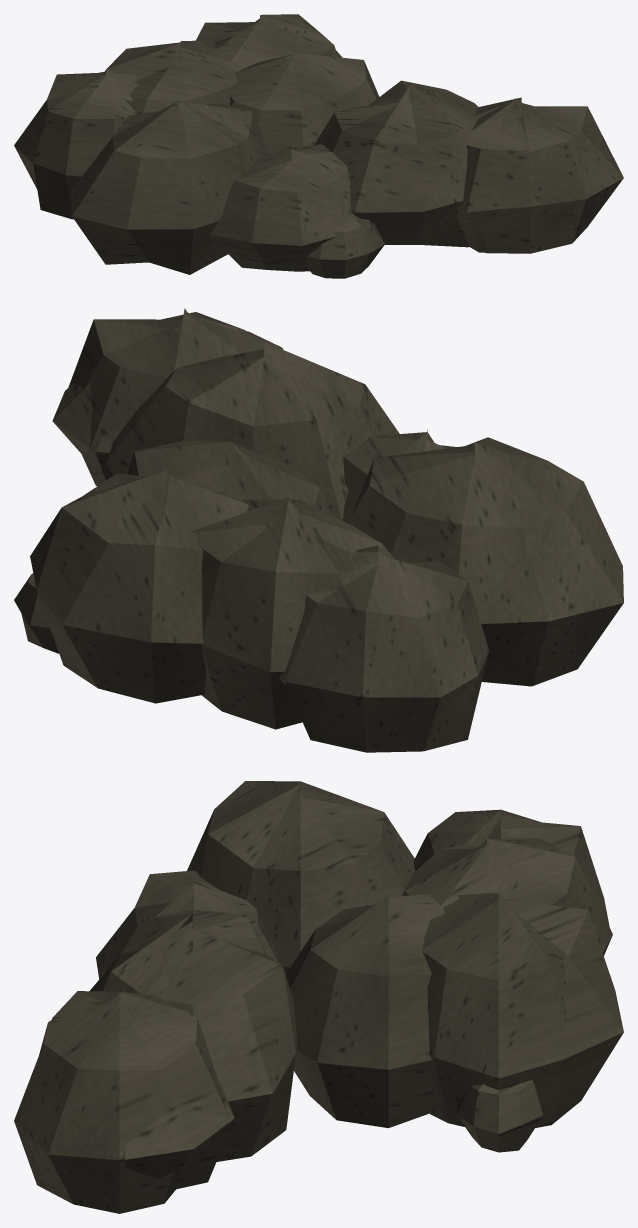
Rendered from PROP-8567FBD06306_lod1.glb.
3 views of the same model, one above another, from view 1: azimuth 30°, elevation 25°; view 2: azimuth 150°, elevation 25°; view 3: azimuth 270°, elevation 25° (orthographic). The views are drawn at different scales.
Parts seen in each view (by area): view 1: rock.002; view 2: rock.002; view 3: rock.002.
Boxes of the visible parts, <box> form: rock.002: <box>14,14,623,278</box>; rock.002: <box>14,308,623,752</box>; rock.002: <box>14,781,623,1213</box>.
Bounding box in the file's own units: 1.53 × 0.4583 × 1.25.
1 material, 1 textured.
